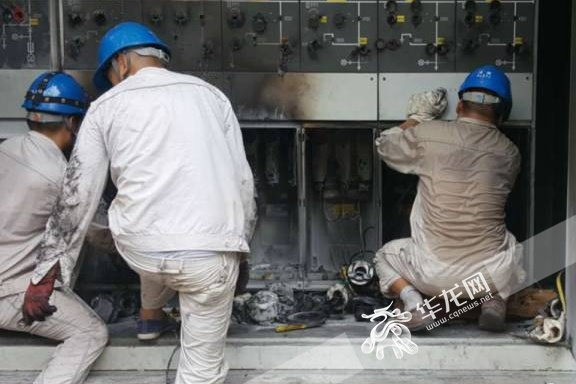blue: (92, 19, 167, 97), (21, 72, 89, 146), (452, 60, 516, 130)
